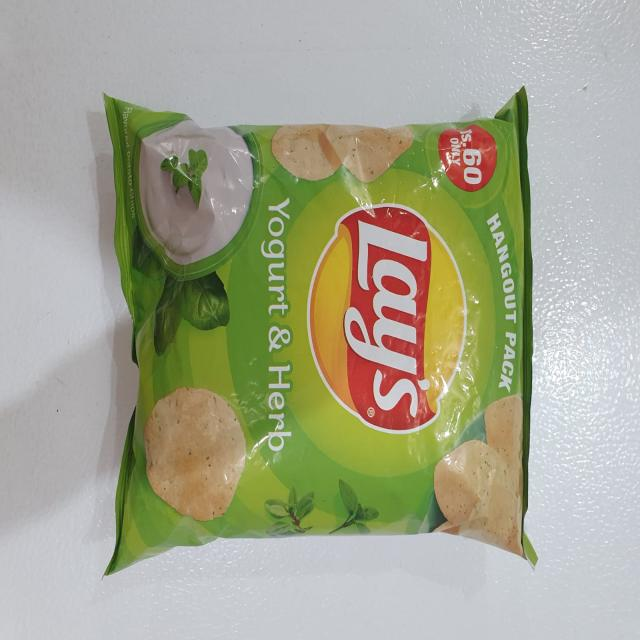lays-large: (135, 128, 513, 542)
